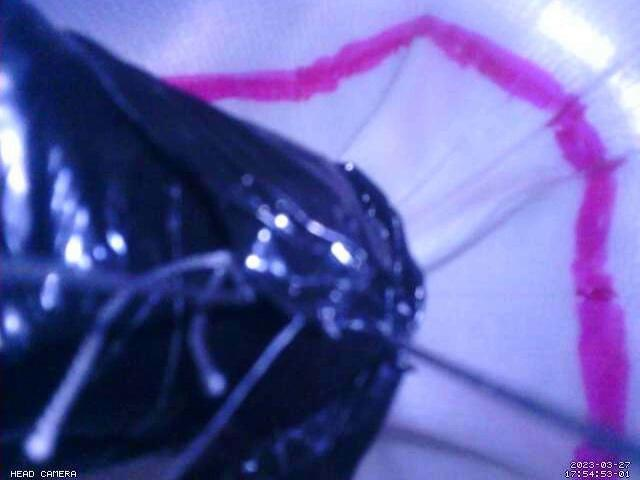red-circle: (162, 13, 632, 480)
